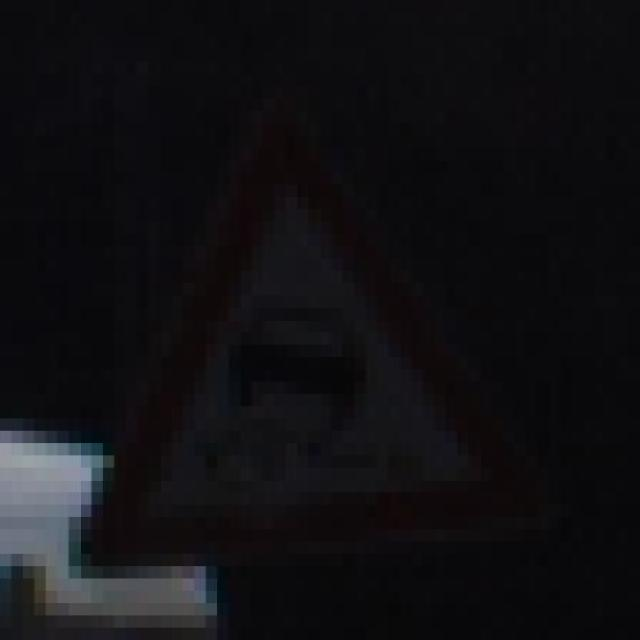Slippery Road Ahead: (57, 99, 549, 566)
